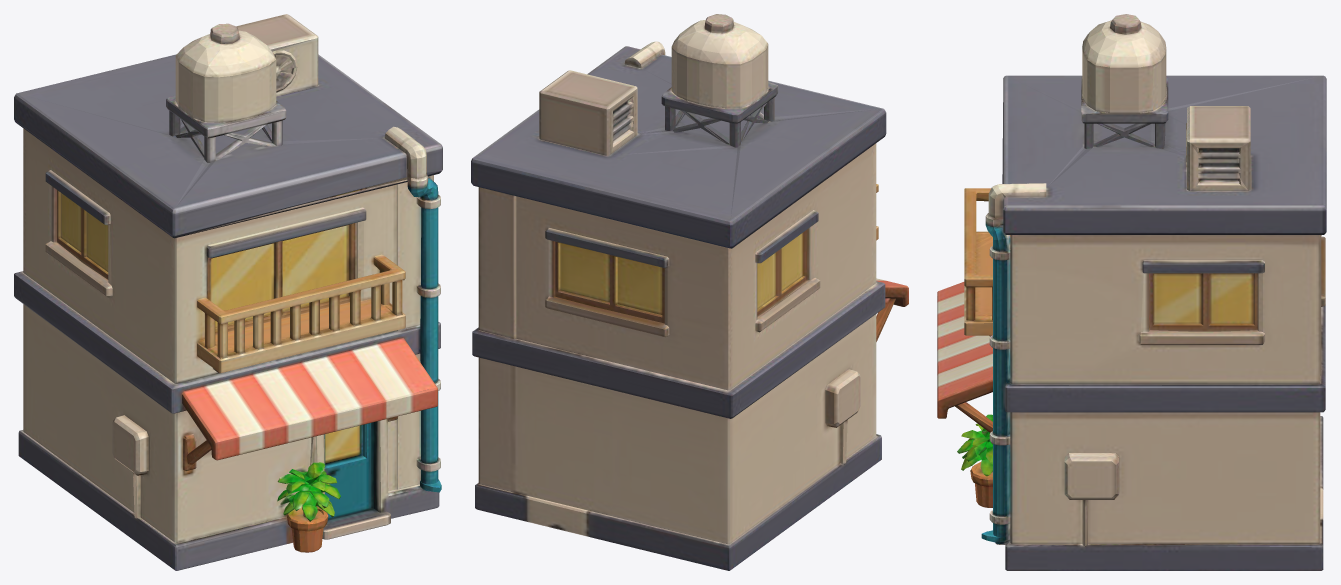
Rendered from home-CdSsFQ8E.glb.
The picture shows the model from 3 angles, left to right: view 1: azimuth 30°, elevation 25°; view 2: azimuth 150°, elevation 25°; view 3: azimuth 270°, elevation 25°; orthographic projection. The views are drawn at different scales.
Parts seen in each view (by area): view 1: tripo_node_f5cc5c67-71da-4903-a6a0-c3bc8f5f57c2; view 2: tripo_node_f5cc5c67-71da-4903-a6a0-c3bc8f5f57c2; view 3: tripo_node_f5cc5c67-71da-4903-a6a0-c3bc8f5f57c2.
Boxes of the visible parts, x1,y1,x2,y2 form: tripo_node_f5cc5c67-71da-4903-a6a0-c3bc8f5f57c2: [14, 14, 442, 570]; tripo_node_f5cc5c67-71da-4903-a6a0-c3bc8f5f57c2: [471, 14, 908, 570]; tripo_node_f5cc5c67-71da-4903-a6a0-c3bc8f5f57c2: [937, 14, 1326, 570].
Bounding box in the file's own units: 0.6104 × 0.9778 × 0.7252.
Materials: 1 (1 with a texture image).
